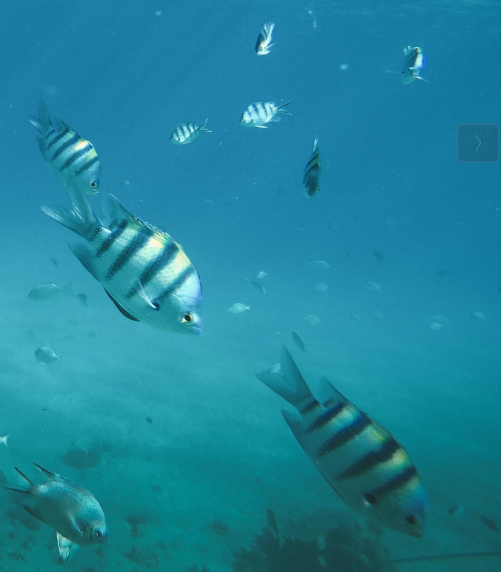fishRound: (257, 344, 429, 540), (42, 173, 204, 338), (3, 461, 109, 547), (26, 97, 103, 196), (239, 97, 294, 130), (300, 135, 324, 200), (168, 117, 215, 147)
